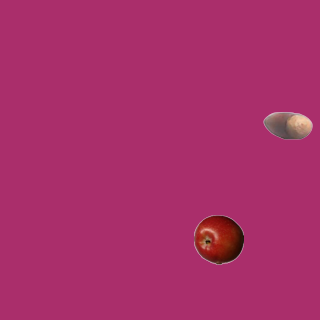Apple Braeburn: (193, 214, 243, 264)
Hazelnut: (262, 100, 312, 150)
